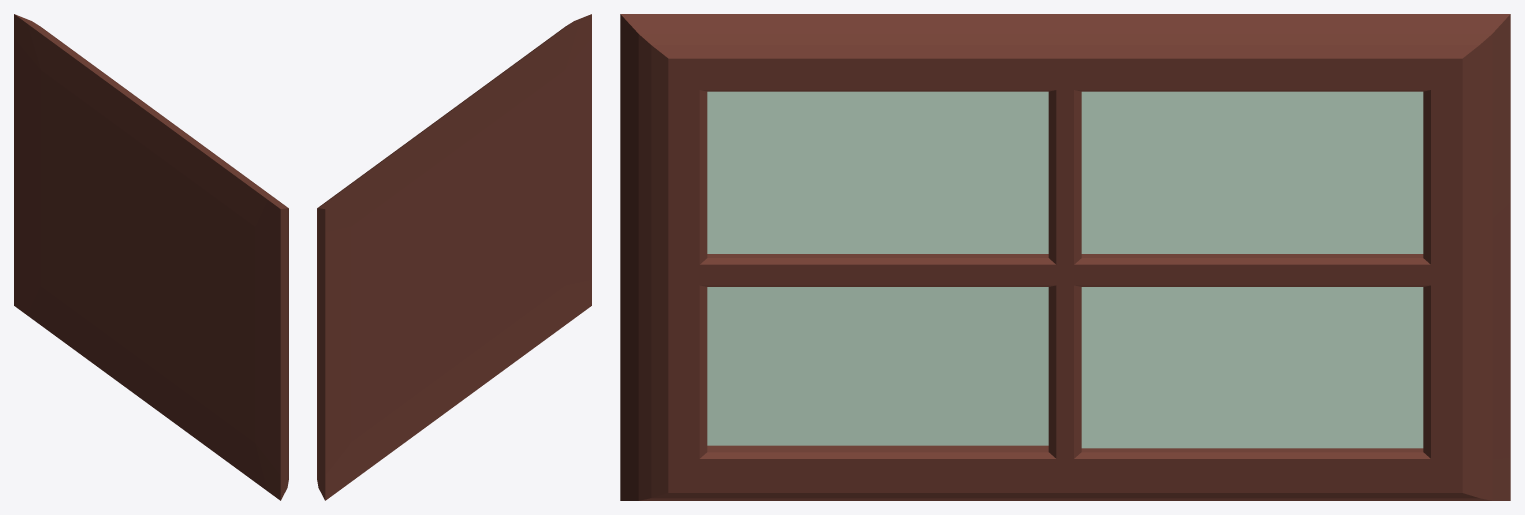
Rendered from pencere.fbx.
The picture shows the model from 3 angles, left to right: view 1: azimuth 30°, elevation 25°; view 2: azimuth 150°, elevation 25°; view 3: azimuth 270°, elevation 25°; orthographic projection. The views are drawn at different scales.
Parts seen in each view (by area): view 1: Cube; view 2: Cube; view 3: Cube.
Boxes of the visible parts, x1=… form: Cube: x1=14, y1=14, x2=288, y2=500; Cube: x1=317, y1=14, x2=591, y2=500; Cube: x1=620, y1=14, x2=1510, y2=500.
Size of the model in its own units: 54.51 by 675 by 1117.
